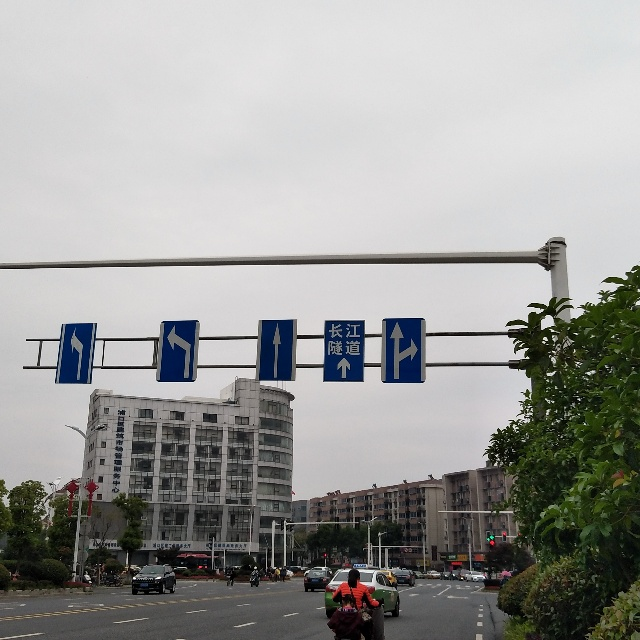left: (157, 321, 199, 384), (60, 323, 92, 383)
straight: (264, 322, 298, 378)
